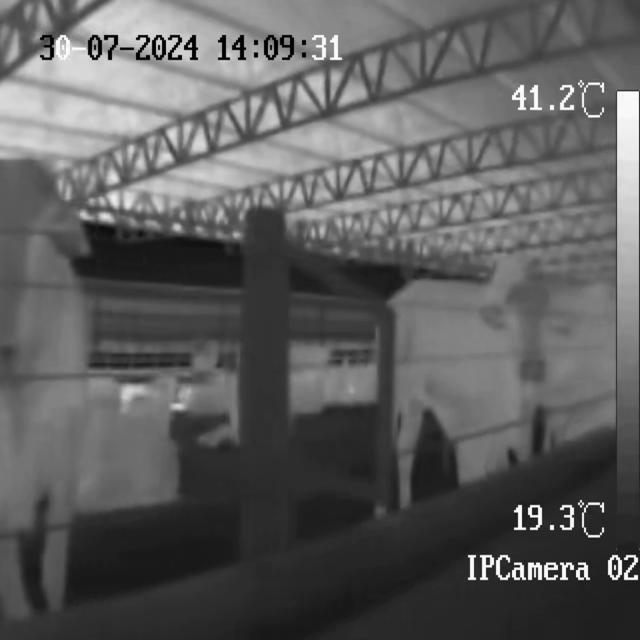eye: (509, 314, 522, 342)
head: (0, 159, 66, 380), (499, 283, 556, 386)
